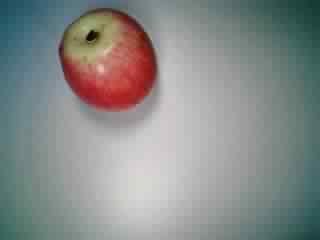apple: (58, 9, 164, 108)
